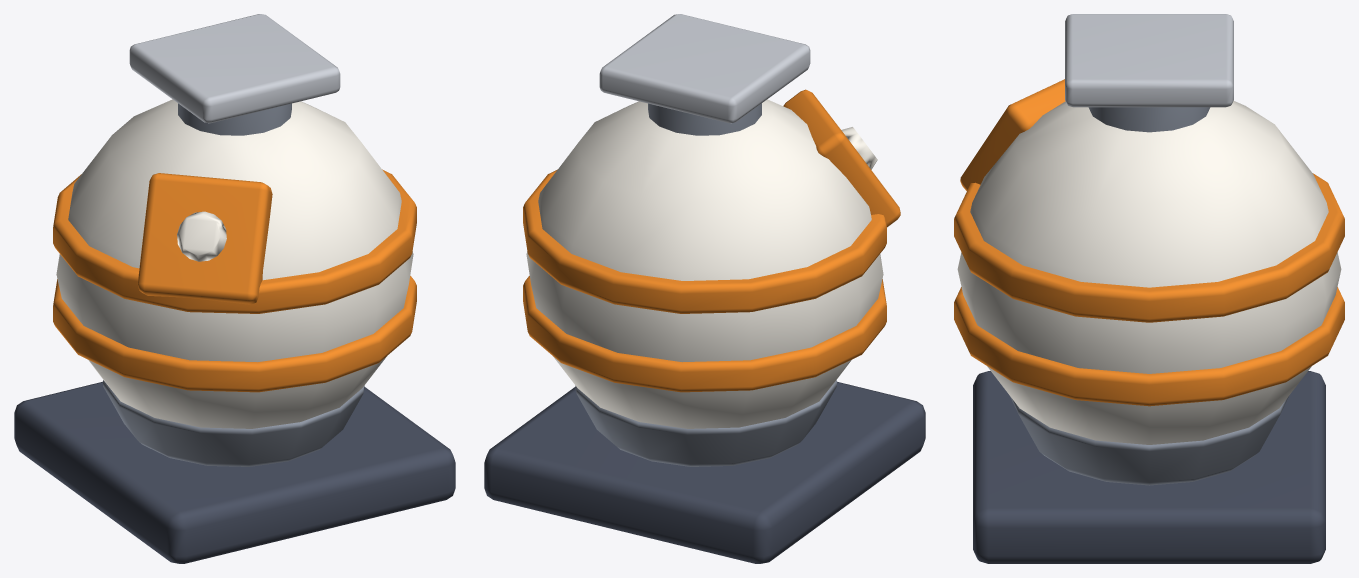
The model's file is Tank_OxygenSpare1.glb.
The picture shows the model from 3 angles, left to right: view 1: azimuth 30°, elevation 25°; view 2: azimuth 150°, elevation 25°; view 3: azimuth 270°, elevation 25°; orthographic projection. The views are drawn at different scales.
Visible parts, largest first — view 1: Tank_OxygenSpare1.Shell, Tank_OxygenSpare1.Plinth, Tank_OxygenSpare1.Band, Tank_OxygenSpare1.Pad, Tank_OxygenSpare1.Label, Tank_OxygenSpare1.Cradle, Tank_OxygenSpare1.Dot_1, Tank_OxygenSpare1.Neck; view 2: Tank_OxygenSpare1.Shell, Tank_OxygenSpare1.Plinth, Tank_OxygenSpare1.Band, Tank_OxygenSpare1.Pad, Tank_OxygenSpare1.Cradle, Tank_OxygenSpare1.Label, Tank_OxygenSpare1.Neck, Tank_OxygenSpare1.Dot_1; view 3: Tank_OxygenSpare1.Shell, Tank_OxygenSpare1.Plinth, Tank_OxygenSpare1.Band, Tank_OxygenSpare1.Pad, Tank_OxygenSpare1.Cradle, Tank_OxygenSpare1.Label, Tank_OxygenSpare1.Neck.
Part boxes in pixels (box(x1,y1,x2,y2)): Tank_OxygenSpare1.Shell: box(56, 99, 413, 428); Tank_OxygenSpare1.Plinth: box(14, 381, 455, 563); Tank_OxygenSpare1.Band: box(53, 169, 416, 392); Tank_OxygenSpare1.Pad: box(129, 14, 340, 123); Tank_OxygenSpare1.Label: box(137, 173, 272, 304); Tank_OxygenSpare1.Cradle: box(103, 380, 364, 466); Tank_OxygenSpare1.Dot_1: box(177, 211, 226, 261); Tank_OxygenSpare1.Neck: box(178, 103, 291, 135); Tank_OxygenSpare1.Shell: box(526, 99, 883, 428); Tank_OxygenSpare1.Plinth: box(484, 381, 925, 563); Tank_OxygenSpare1.Band: box(523, 169, 886, 392); Tank_OxygenSpare1.Pad: box(599, 14, 810, 123); Tank_OxygenSpare1.Cradle: box(575, 380, 836, 466); Tank_OxygenSpare1.Label: box(783, 89, 900, 227); Tank_OxygenSpare1.Neck: box(648, 103, 761, 135); Tank_OxygenSpare1.Dot_1: box(841, 127, 877, 169); Tank_OxygenSpare1.Shell: box(957, 101, 1341, 444); Tank_OxygenSpare1.Plinth: box(973, 371, 1325, 563); Tank_OxygenSpare1.Band: box(954, 173, 1344, 406); Tank_OxygenSpare1.Pad: box(1065, 14, 1233, 107); Tank_OxygenSpare1.Cradle: box(1010, 396, 1288, 485); Tank_OxygenSpare1.Label: box(960, 79, 1065, 190); Tank_OxygenSpare1.Neck: box(1088, 107, 1210, 132).
Bounding box in the file's own units: 0.5094 × 0.645 × 0.5094.
1 material, 1 textured.
